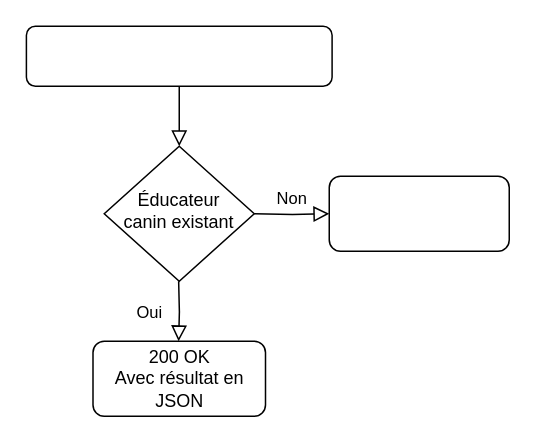
The diagram is 536 pixels wide and 443 high, and some of its shapes have lost their labels. The centre of each missing label's shape, as x and y in pixels:
"404 Not Found" belongs at pixel 418 213.
"GET api/v1/plannings/{idEducator}" belongs at pixel 178 55.
